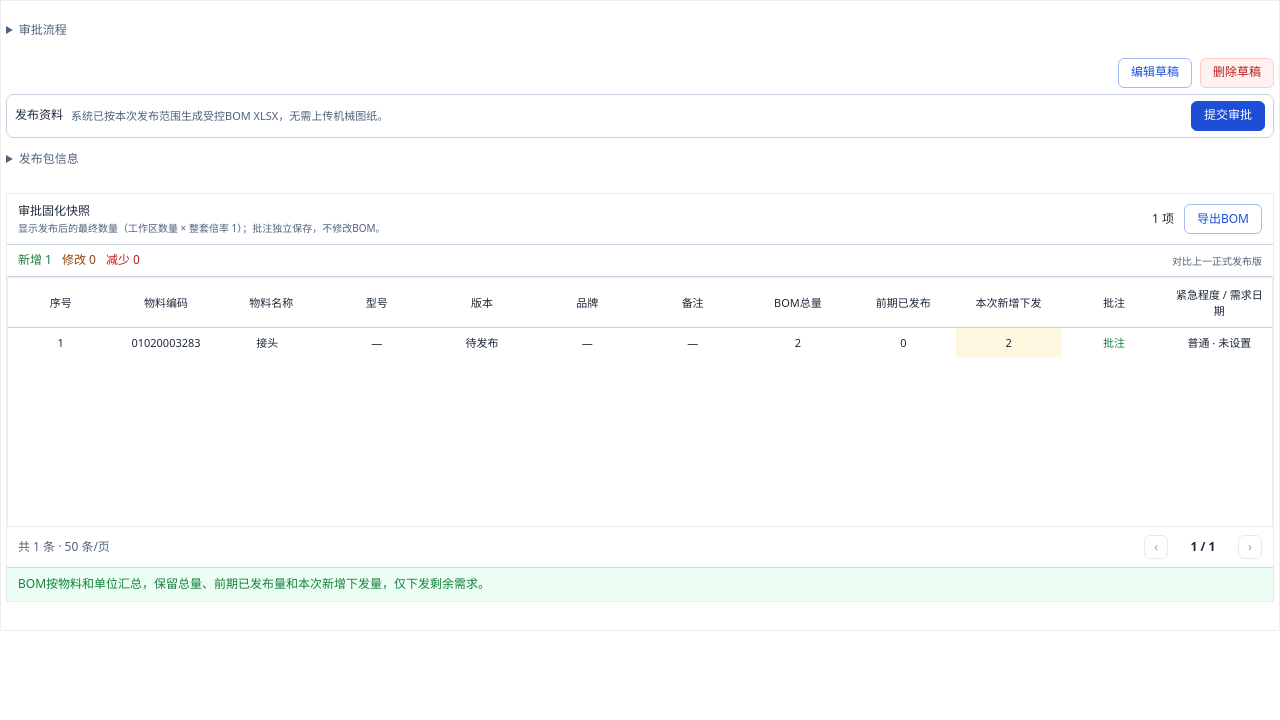
Test: ReleaseCenter › restores a compact draft selection only when all instance IDs are selected: false
The width and height of the screenshot is (1280, 720).
Click the button "编辑草稿" at (1155, 73), box [1118, 58, 1192, 88]
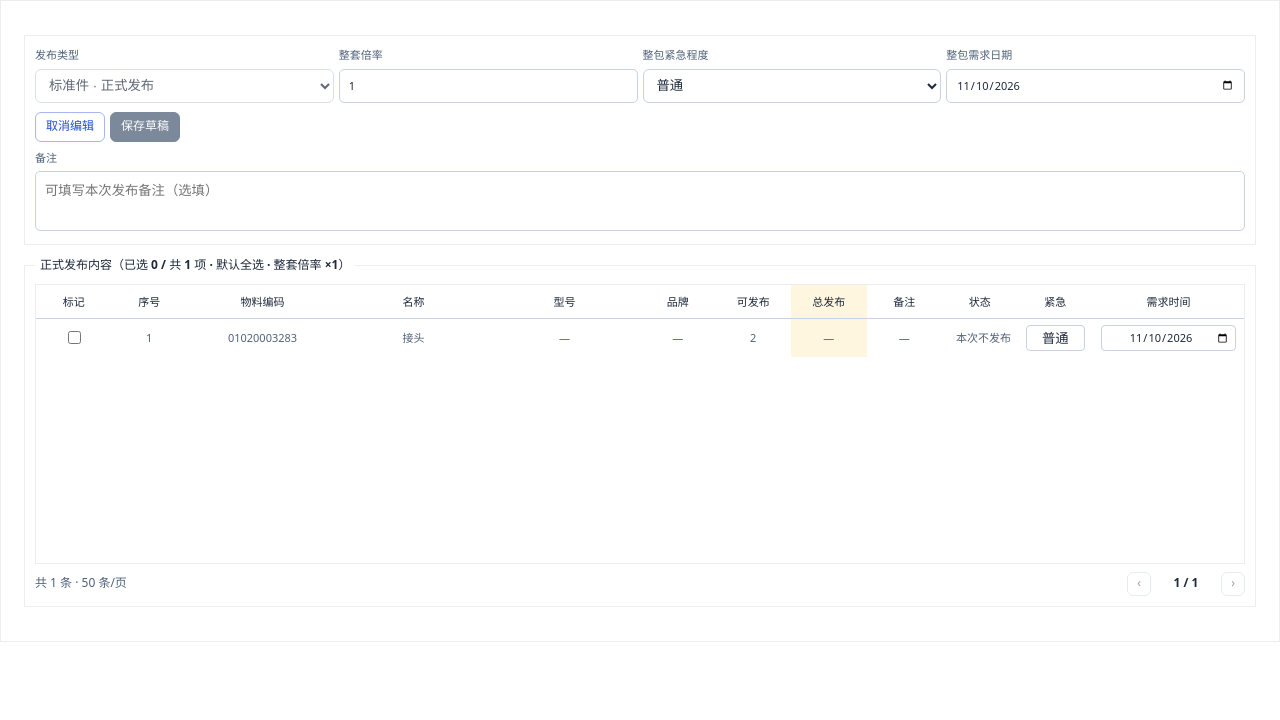
Now the checkbox named "本次发布物料 01020003283" is not checked, box [68, 332, 81, 344]
